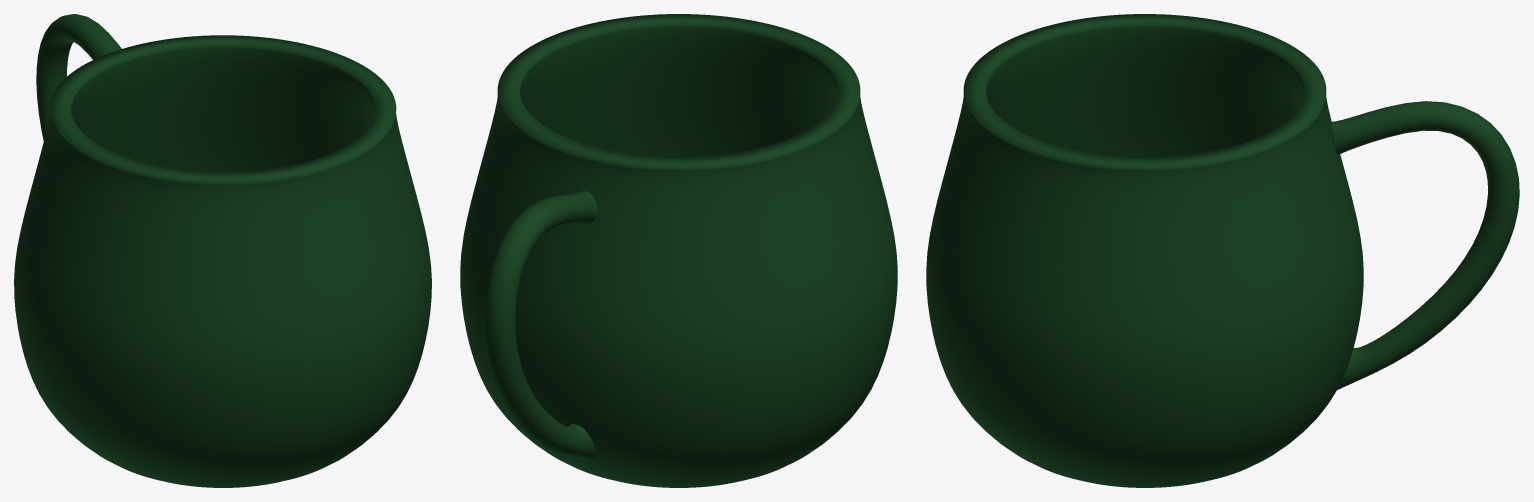
File: mug_4.glb
The picture shows the model from 3 angles, left to right: view 1: azimuth 30°, elevation 25°; view 2: azimuth 150°, elevation 25°; view 3: azimuth 270°, elevation 25°; orthographic projection. The views are drawn at different scales.
Parts seen in each view (by area): view 1: Cylinder; view 2: Cylinder; view 3: Cylinder.
Part boxes in pixels (x1,y1,x2,y2): Cylinder: (14, 14, 431, 487); Cylinder: (460, 14, 897, 487); Cylinder: (926, 14, 1519, 487).
Size of the model in its own units: 2.17 by 1.92 by 2.94.
